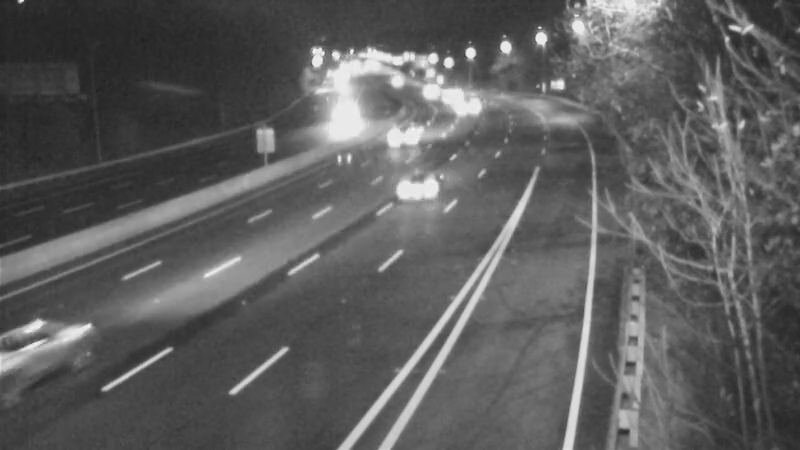vehicle: (1, 287, 109, 397), (379, 147, 459, 227), (369, 52, 419, 102), (403, 65, 453, 115), (425, 69, 475, 119), (439, 83, 489, 133), (380, 105, 430, 155), (320, 91, 370, 141)
